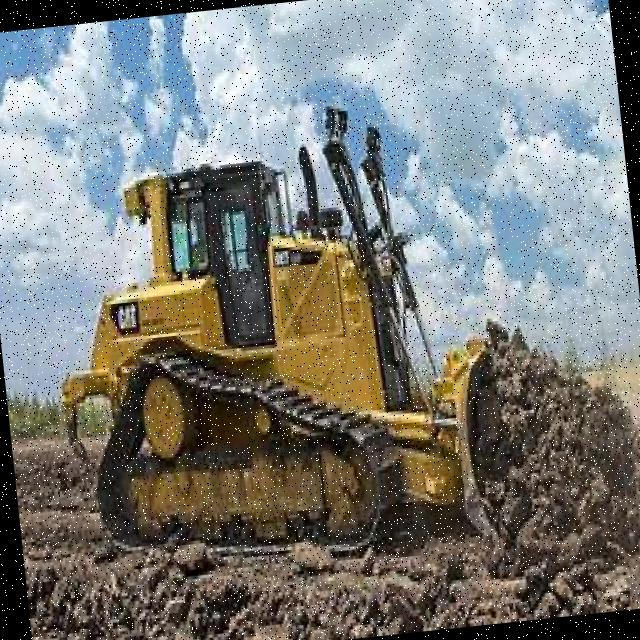Bulldozer: (16, 76, 604, 598)
